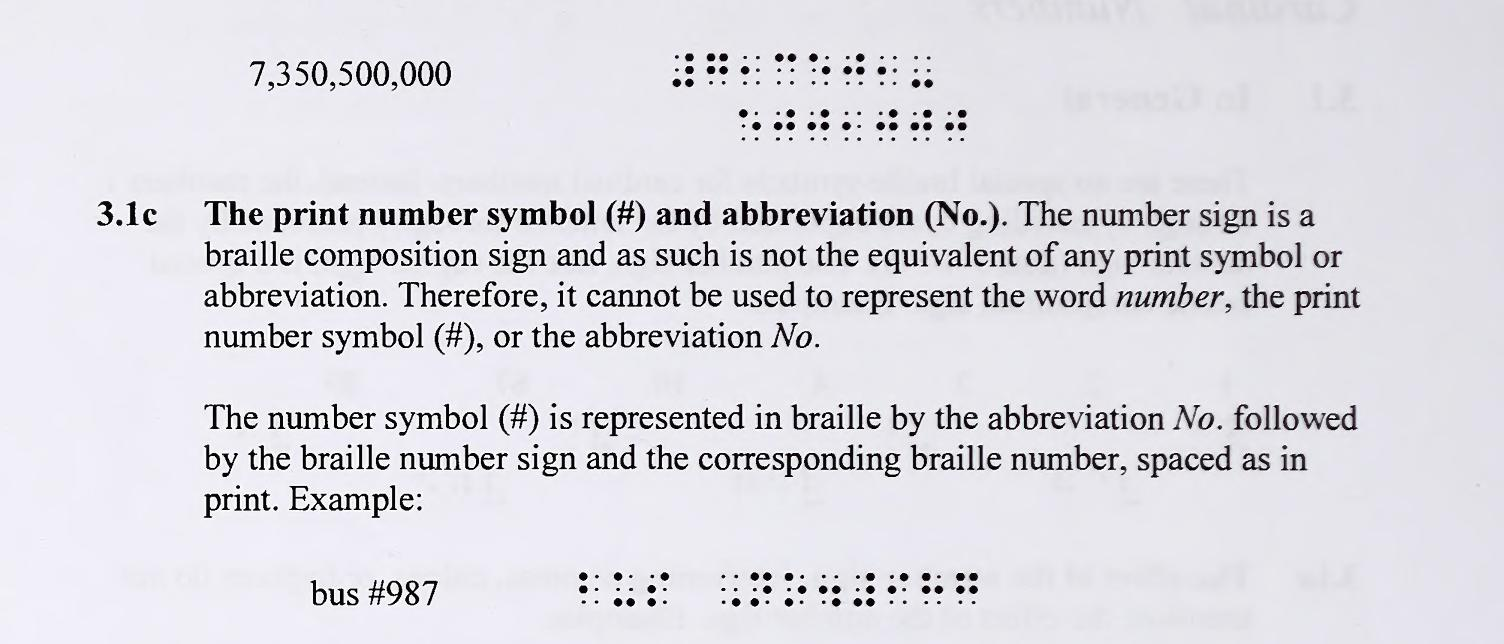0: (773, 108, 798, 146), (842, 53, 868, 89), (807, 108, 832, 143), (909, 109, 933, 144), (944, 109, 968, 144), (877, 109, 899, 146)
3: (773, 52, 799, 86)
5: (739, 109, 763, 147), (808, 52, 831, 89)
7: (707, 53, 729, 86), (956, 572, 978, 604)
8: (921, 570, 943, 607)
9: (888, 572, 910, 607)
N: (750, 572, 772, 607)
b: (580, 572, 600, 607)
capital: (720, 571, 742, 609)
number: (672, 52, 694, 87), (854, 571, 874, 607)
o: (783, 570, 806, 610)
s: (646, 571, 669, 607)
u: (612, 571, 634, 606)
